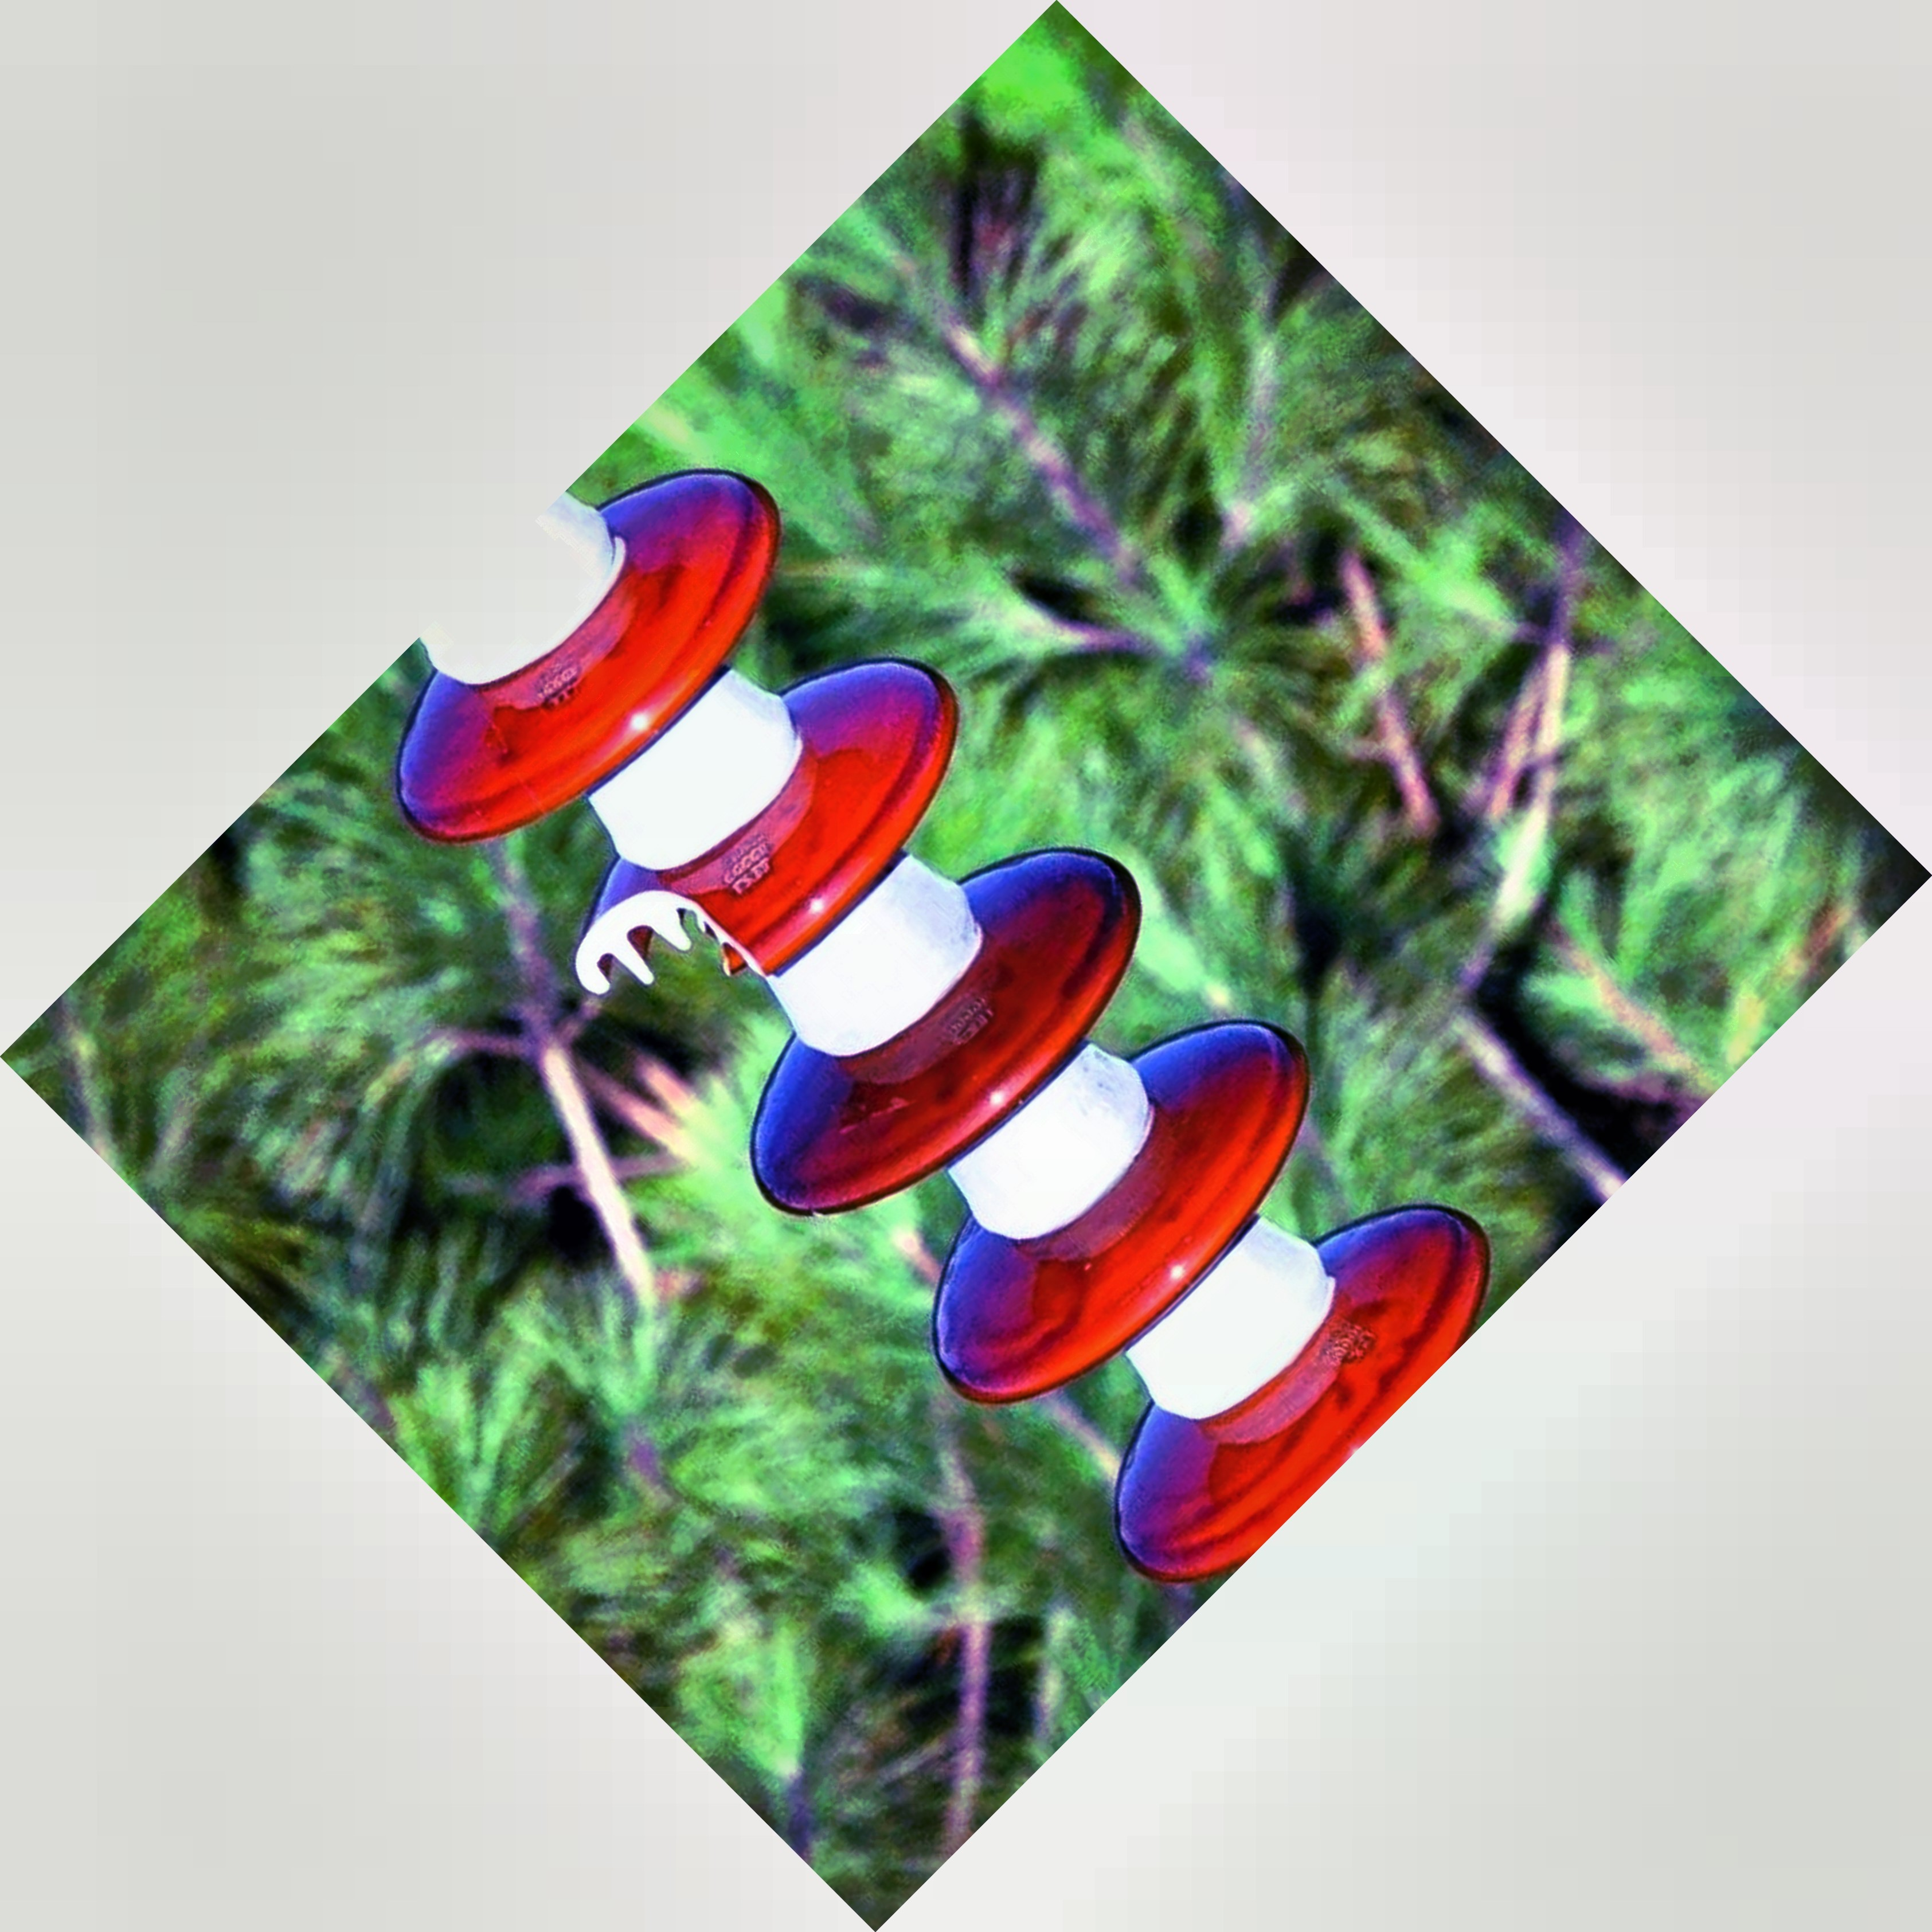insulator breakage: (561, 637, 975, 1024)
